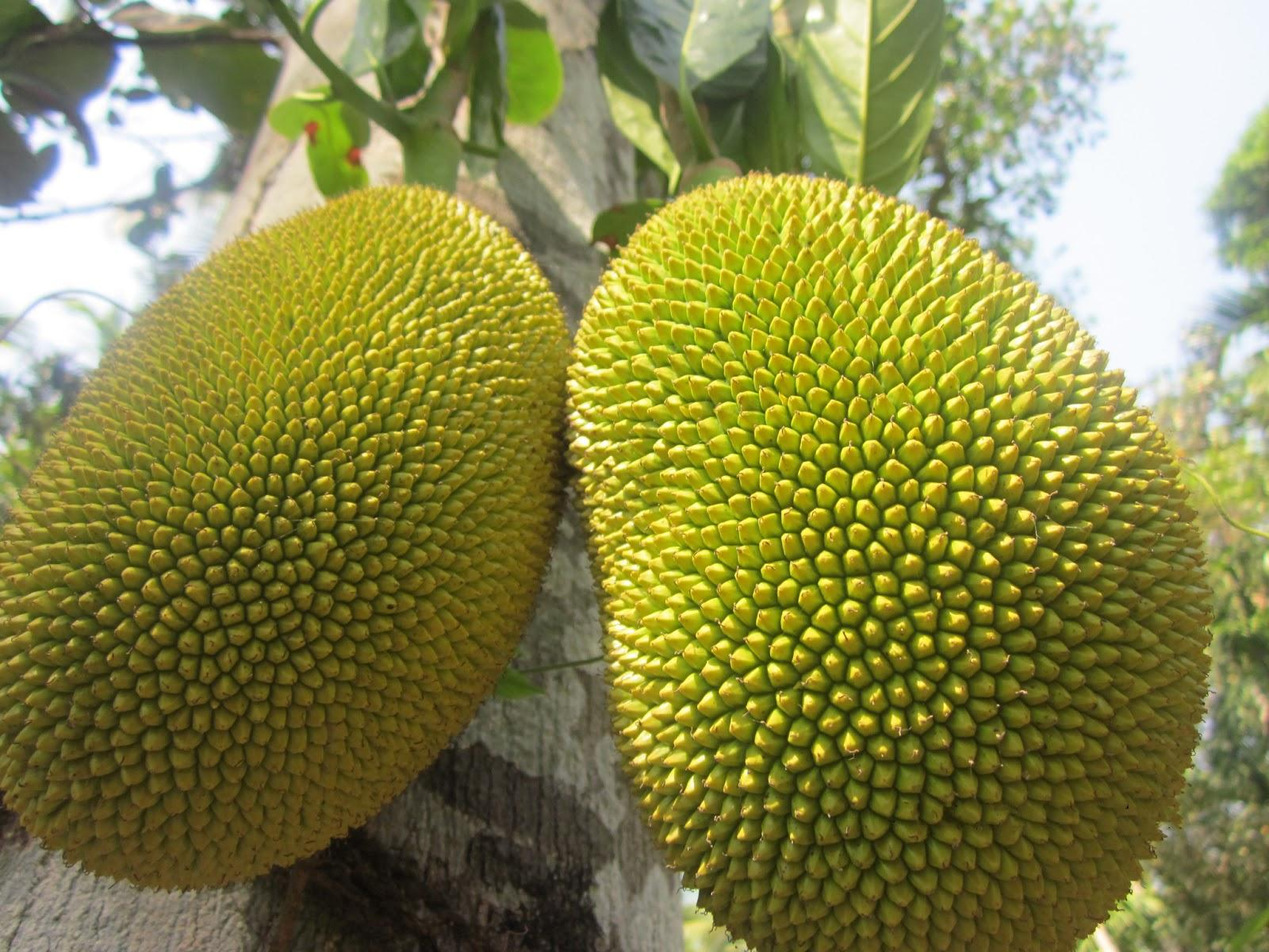mit: (572, 167, 1205, 952), (0, 180, 559, 889)
